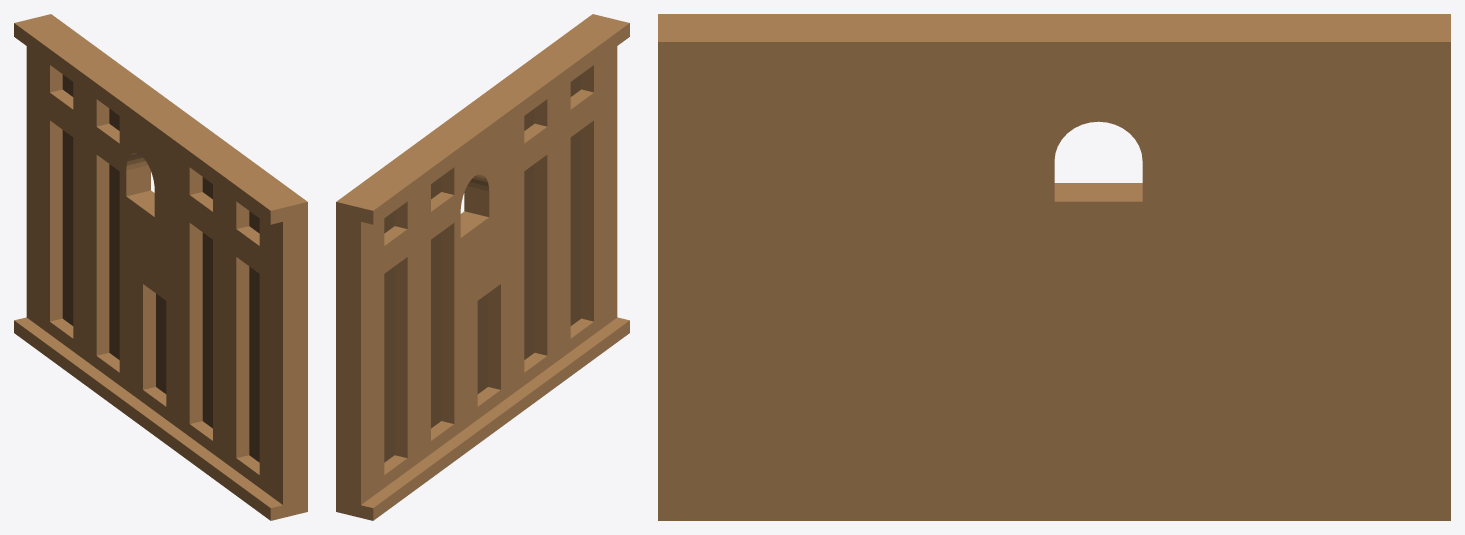
Rendered from F1WallWest.fbx.
3 renders of one model, left to right at view 1: azimuth 30°, elevation 25°; view 2: azimuth 150°, elevation 25°; view 3: azimuth 270°, elevation 25°, orthographic. The views are drawn at different scales.
Visible parts, largest first — view 1: Wall.003; view 2: Wall.003; view 3: Wall.003.
Part boxes in pixels (<box>): Wall.003: <box>14,14,307,520</box>; Wall.003: <box>336,14,629,520</box>; Wall.003: <box>658,14,1450,520</box>.
Size of the model in its own units: 7.5 by 60 by 90.
